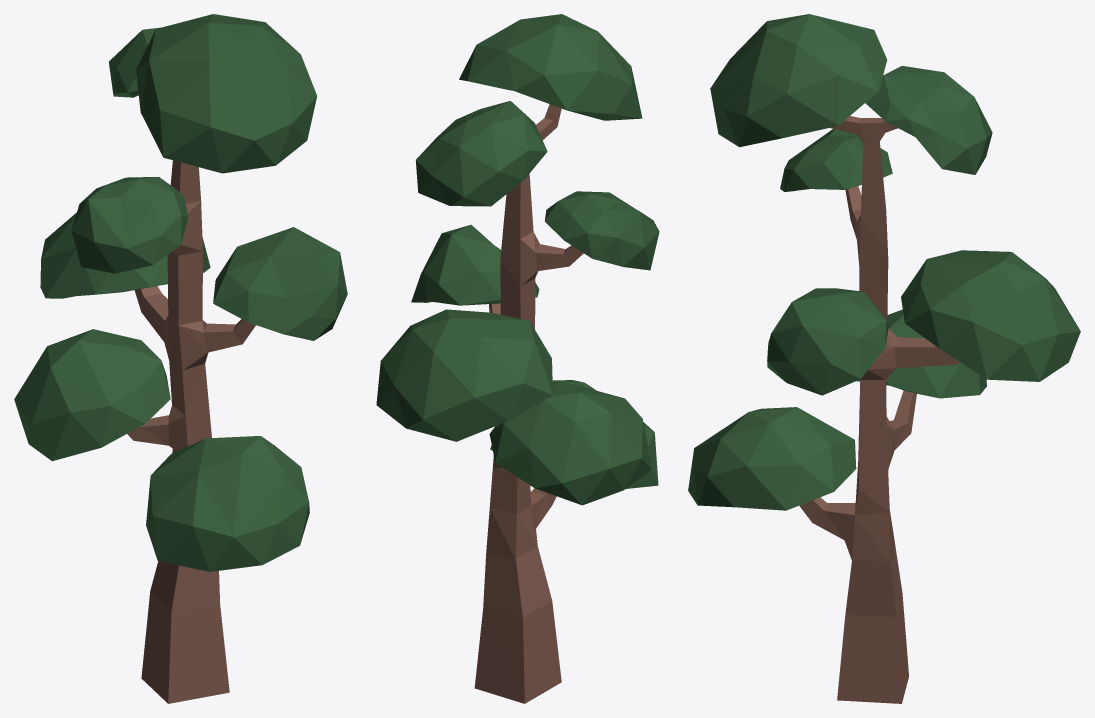
The model's file is tree7.glb.
The picture shows the model from 3 angles, left to right: view 1: azimuth 30°, elevation 25°; view 2: azimuth 150°, elevation 25°; view 3: azimuth 270°, elevation 25°; orthographic projection. The views are drawn at different scales.
Parts seen in each view (by area): view 1: Tree6_2; view 2: Tree6_2; view 3: Tree6_2.
Part boxes in pixels (bbox=[...]): Tree6_2: bbox=[14, 14, 347, 703]; Tree6_2: bbox=[376, 14, 659, 703]; Tree6_2: bbox=[688, 14, 1080, 703].
Size of the model in its own units: 2.5 by 6.09 by 3.24.
